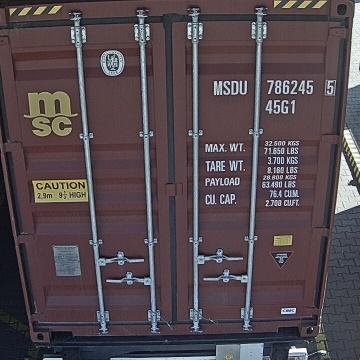serial_id: (214, 79, 335, 94)
